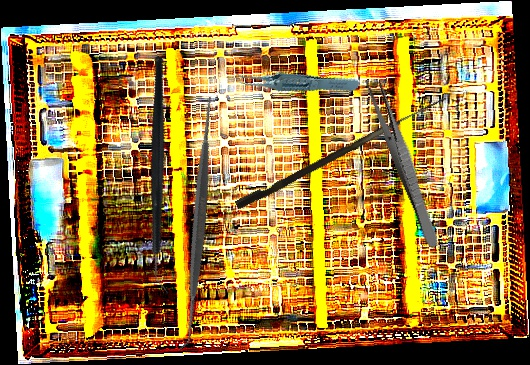Chopper: (77, 55, 248, 295)
Dressing Forceps: (363, 77, 446, 250)
Hook Surgical: (234, 87, 447, 214)
Spatula Surgical: (70, 90, 328, 351)
Tissue Forceps: (230, 43, 360, 117)
